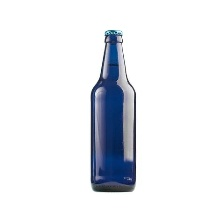bottle: (81, 27, 141, 199)
